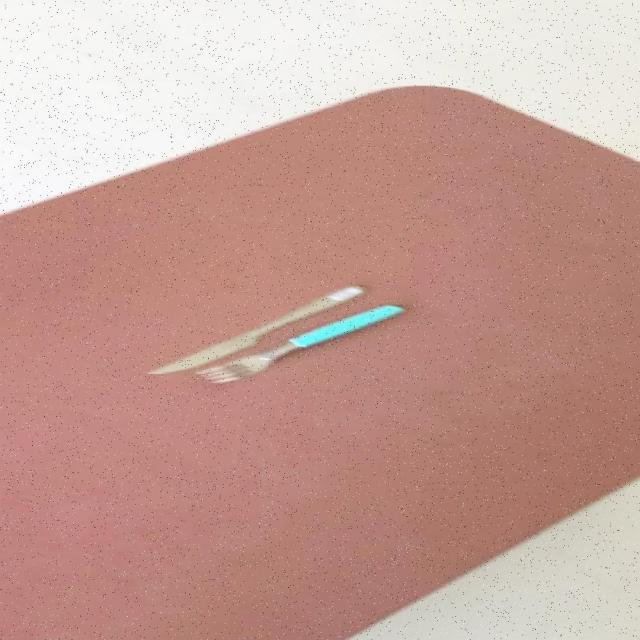Fork: (194, 303, 406, 383)
Knife: (143, 283, 368, 375), (193, 302, 406, 383)
